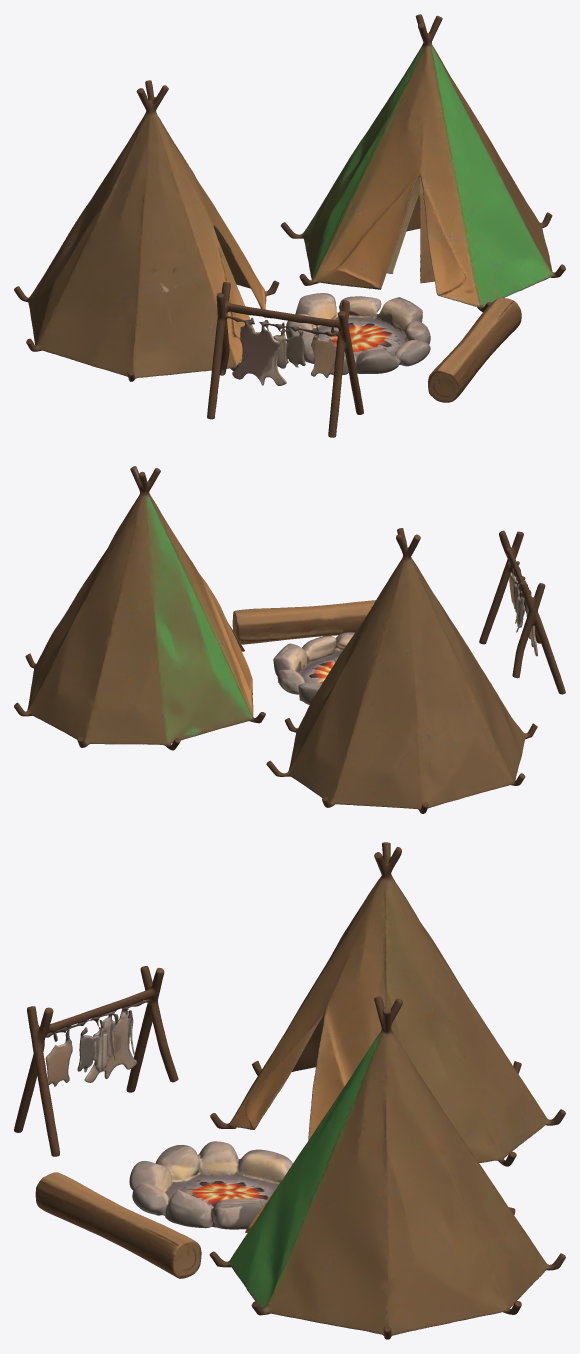
Rendered from camp.glb.
3 views of the same model, one above another, from view 1: azimuth 30°, elevation 25°; view 2: azimuth 150°, elevation 25°; view 3: azimuth 270°, elevation 25° (orthographic). The views are drawn at different scales.
Bounding box in the file's own units: 1.9 × 0.8511 × 1.51.
Materials: 1 (1 with a texture image).
